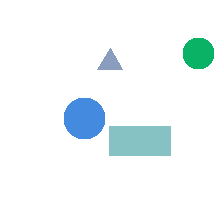circle: (64, 98, 104, 138), (183, 38, 213, 68)
rectangle: (109, 126, 170, 155)
triangle: (97, 48, 122, 69)
